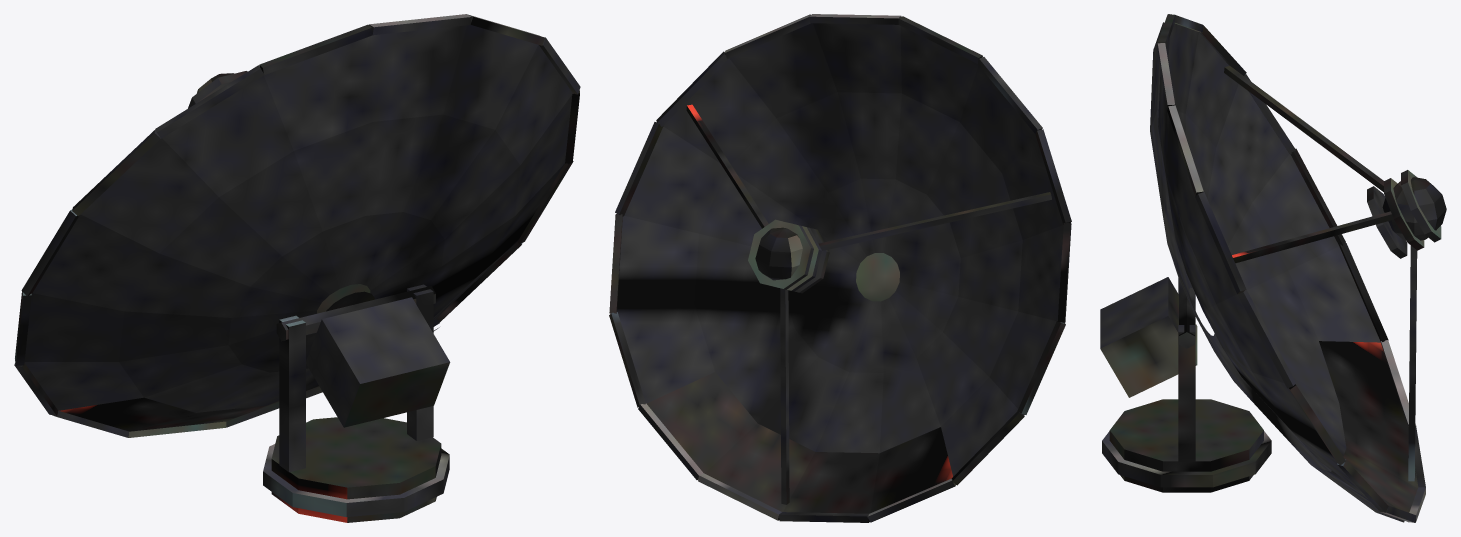
The model's file is SM_JammerDish.fbx.
3 renders of one model, left to right at view 1: azimuth 30°, elevation 25°; view 2: azimuth 150°, elevation 25°; view 3: azimuth 270°, elevation 25°, orthographic. The views are drawn at different scales.
Visible parts, largest first — view 1: SM_JammerDish; view 2: SM_JammerDish; view 3: SM_JammerDish.
Boxes of the visible parts, x1,y1,x2,y2 form: SM_JammerDish: (14,14,580,522); SM_JammerDish: (609,14,1071,522); SM_JammerDish: (1100,14,1446,522).
Size of what is drawn, in the model's own units: 732 by 646 by 449.
Materials: 2 (2 with a texture image).
